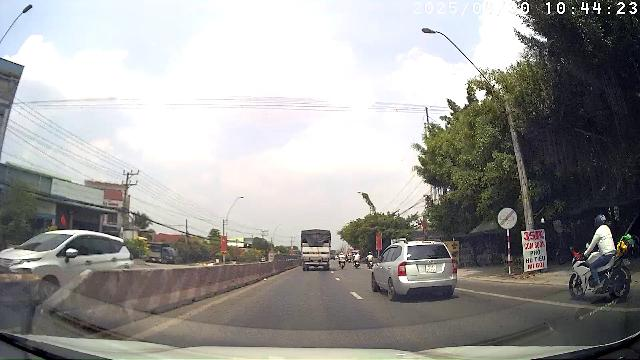133-het-cam-vuot: (498, 207, 517, 229)
